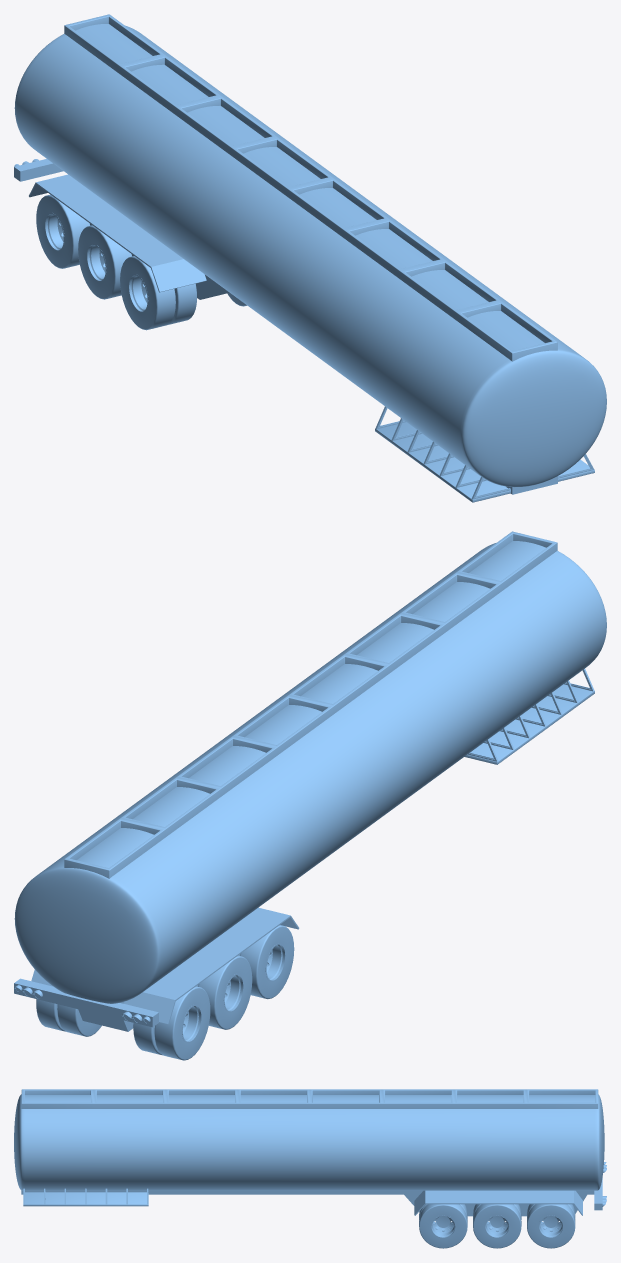
Rendered from semi_trailer_edit_v1.glb.
3 renders of one model, top to bottom at view 1: azimuth 30°, elevation 25°; view 2: azimuth 150°, elevation 25°; view 3: azimuth 270°, elevation 25°, orthographic. The views are drawn at different scales.
Visible parts, largest first — view 1: Main Tank, Tires, Rims; view 2: Main Tank, Tires, Rims; view 3: Main Tank, Tires, Rims.
Part boxes in pixels (x1,y1,x2,y2): Main Tank: (14,14,606,502); Tires: (36,194,246,330); Rims: (44,212,148,313); Main Tank: (14,531,606,1031); Tires: (36,925,294,1060); Rims: (182,943,285,1043); Main Tank: (14,1089,606,1216); Tires: (419,1204,575,1248); Rims: (430,1215,563,1238).
Size of the model in its own units: 2.1 by 2.82 by 11.57.
